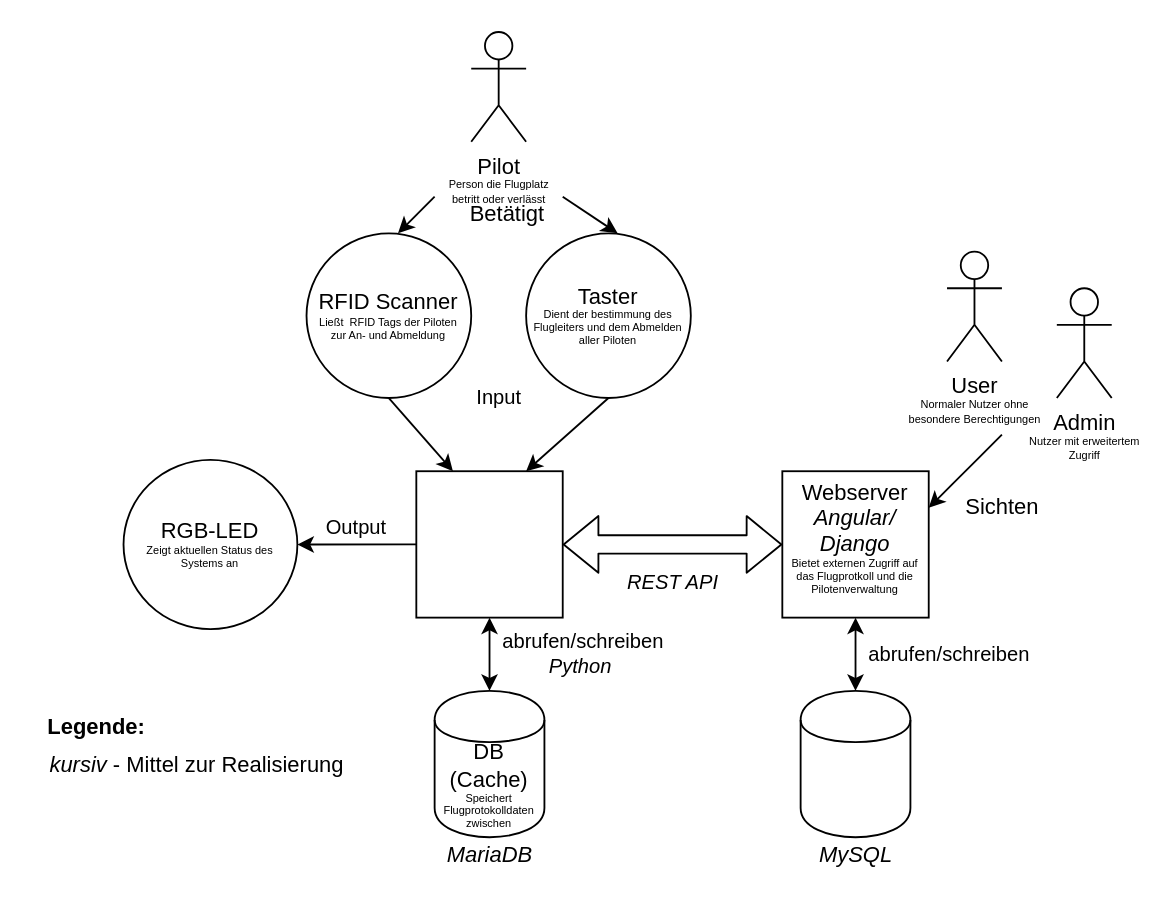
Image size: 1169x906. Some labels were removed from this diagram. Here are the shapes that lost their labels. From the top down, the centre of each, then its label:
At pixel 488 543: "Raspi Python Zentrales Systemelement auf dem Flugplatz".
At pixel 854 763: "DB Speichert Flugprotkoll und Piloten".
